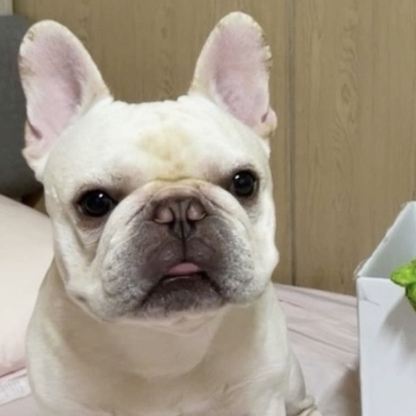bulldog: (18, 11, 319, 415)
